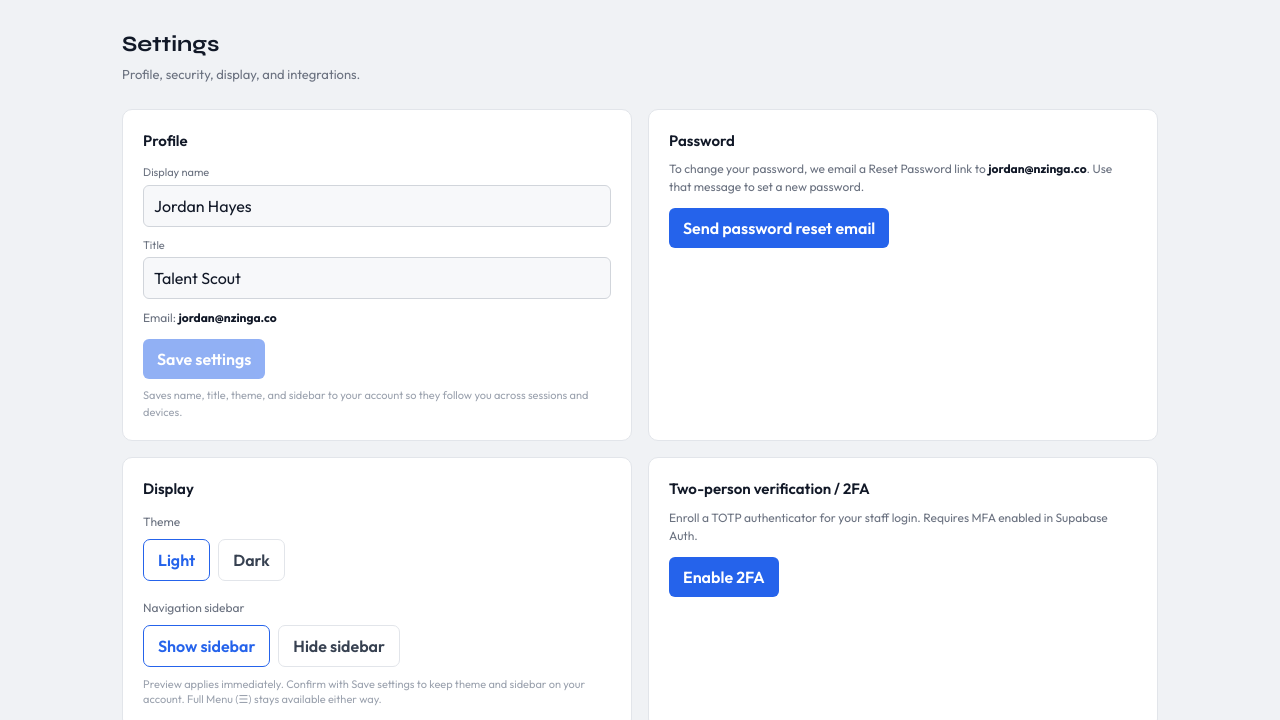
Scenario: SettingsPage save confirm › asks for confirmation before persisting and does nothing on cancel
Replace the text in the 1st field showing "Jordan Hayes" with "Jordan H." at (377, 206), box [143, 184, 611, 226]
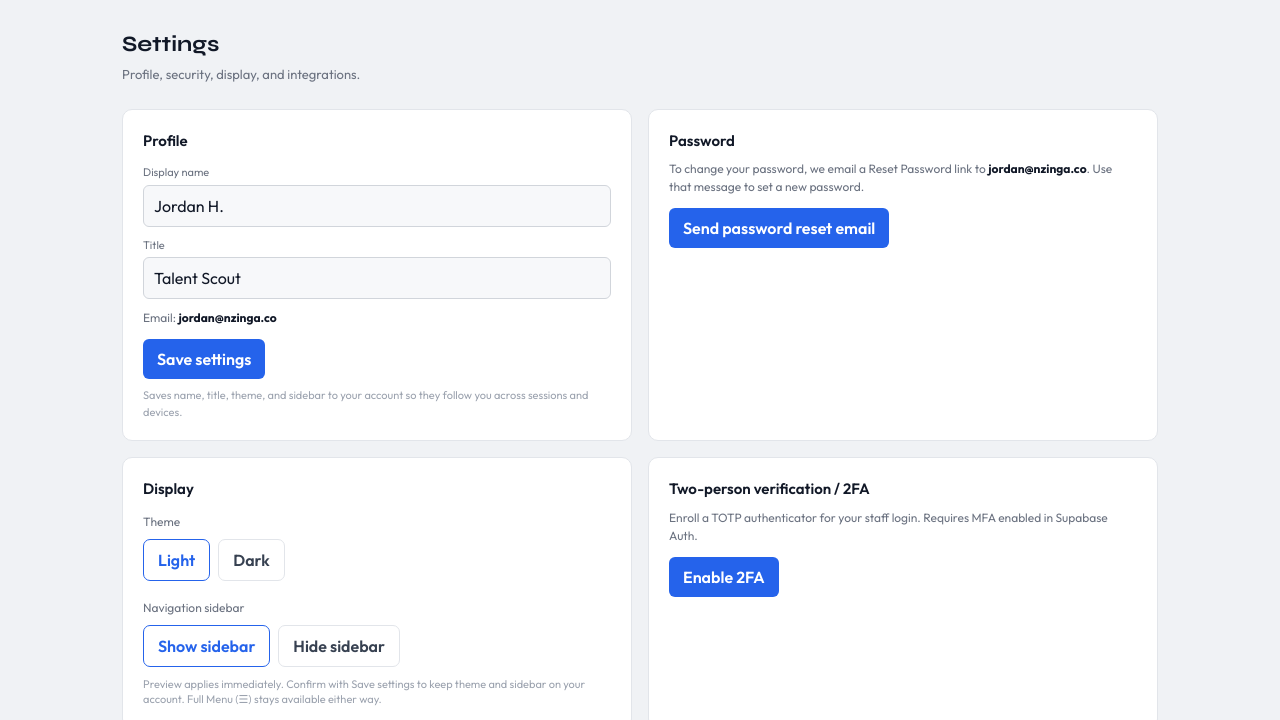
Click the button "Save settings".
click(204, 359)  # box [143, 339, 266, 379]
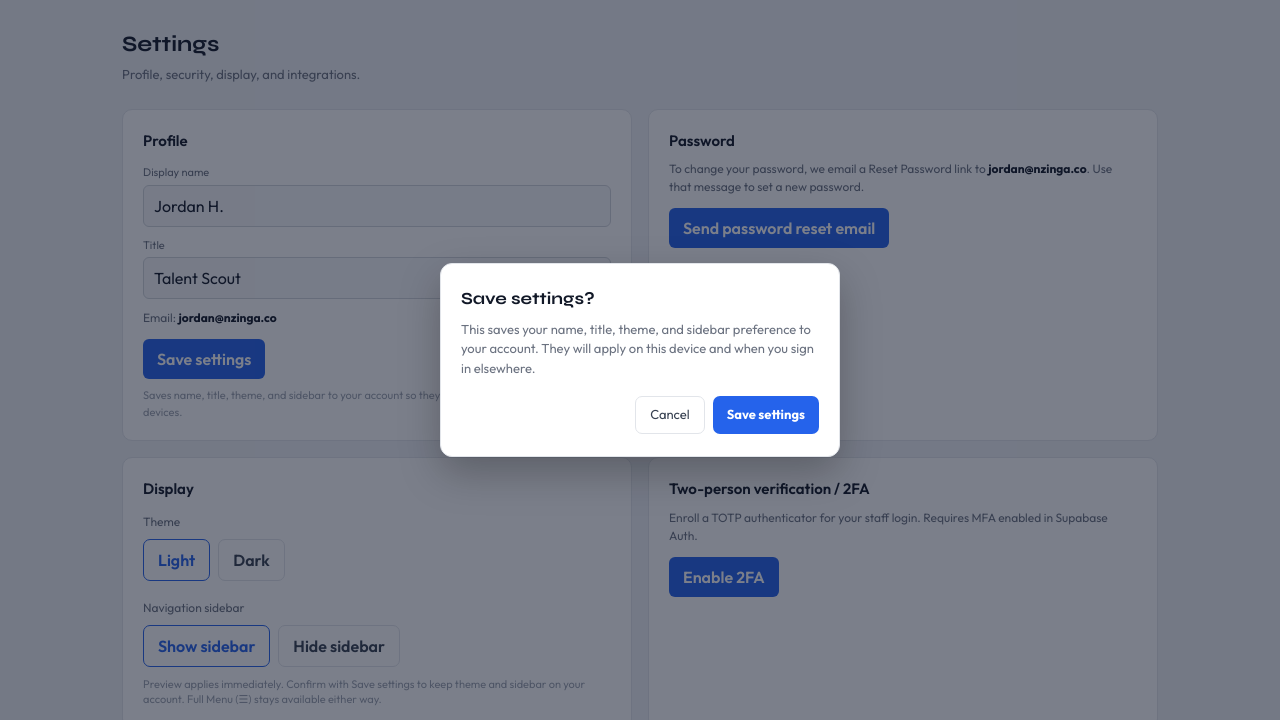
Result: the dialog is shown
Result: the text "saves your name, title, theme, and sidebar" is shown at [461, 321, 814, 376]
Click the button "Cancel".
click(670, 415)  # box [635, 396, 705, 434]
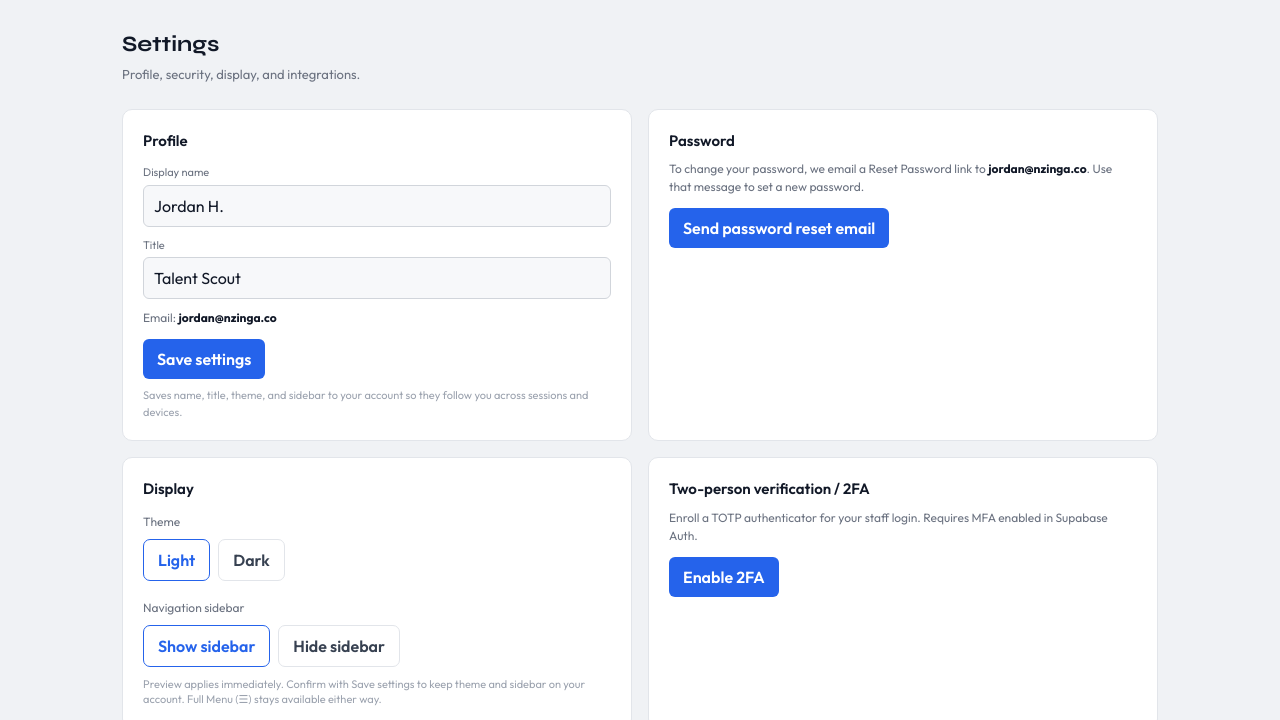
Result: the dialog is gone
